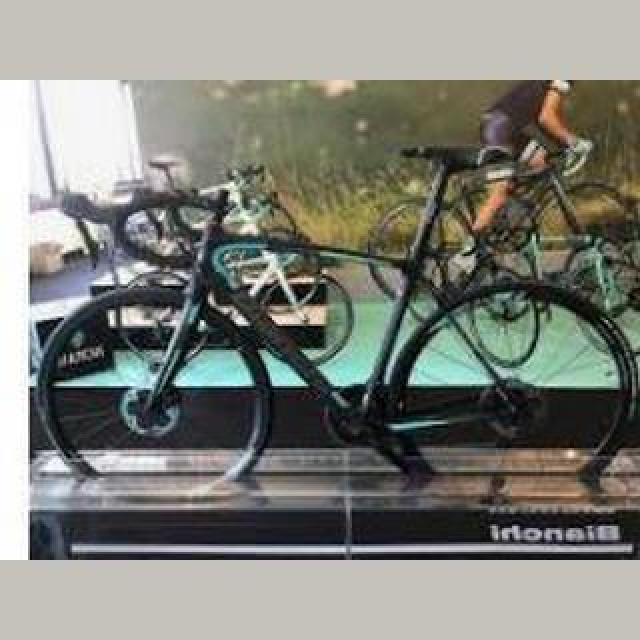Person: (45, 144, 637, 510)
